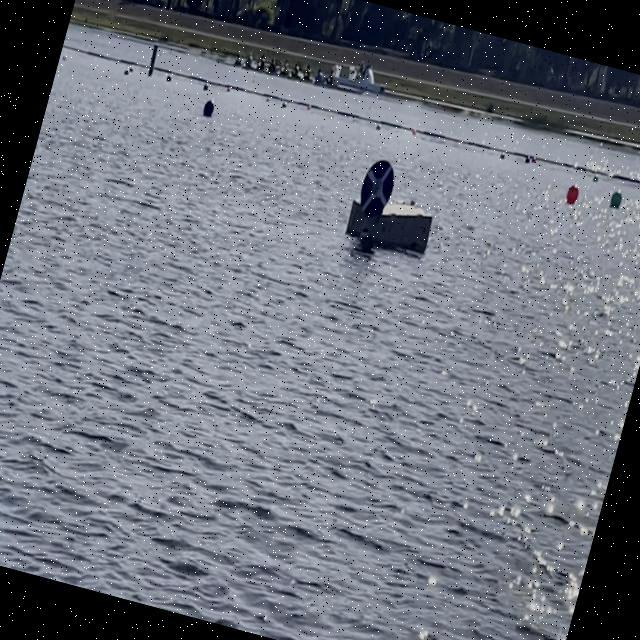buoy: (564, 183, 580, 205), (608, 190, 622, 210), (202, 99, 214, 117)
